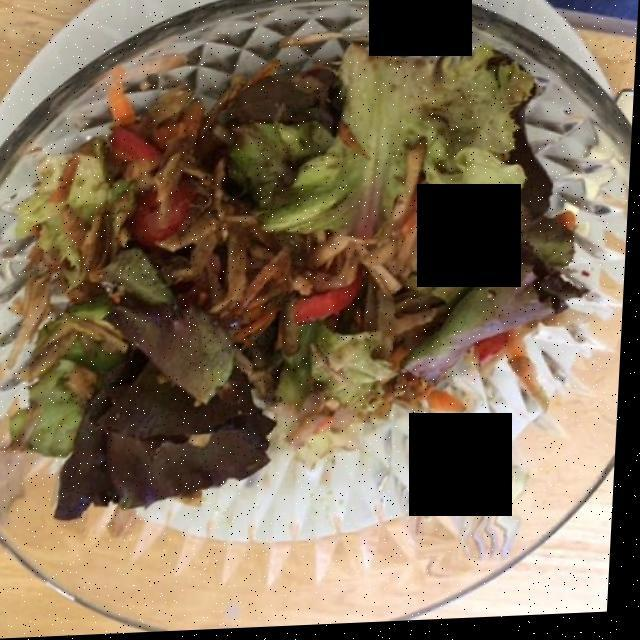carrot: (107, 77, 537, 426)
salad: (18, 41, 583, 508)
